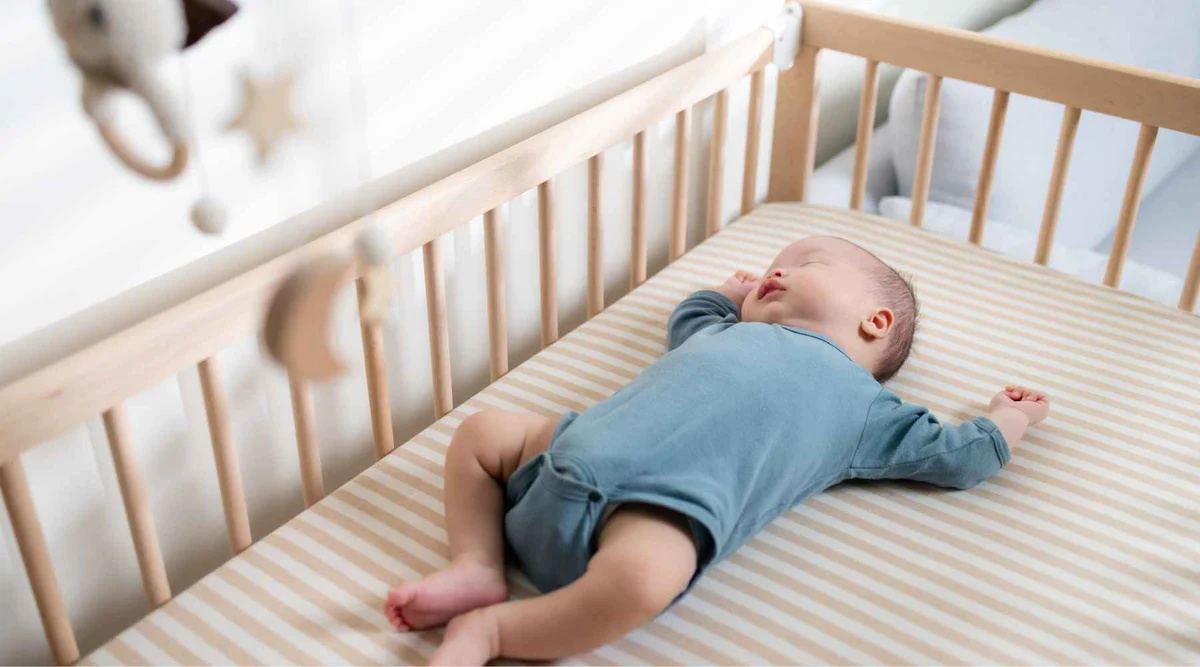baby: (385, 237, 1048, 663)
crib: (0, 1, 1199, 663)
